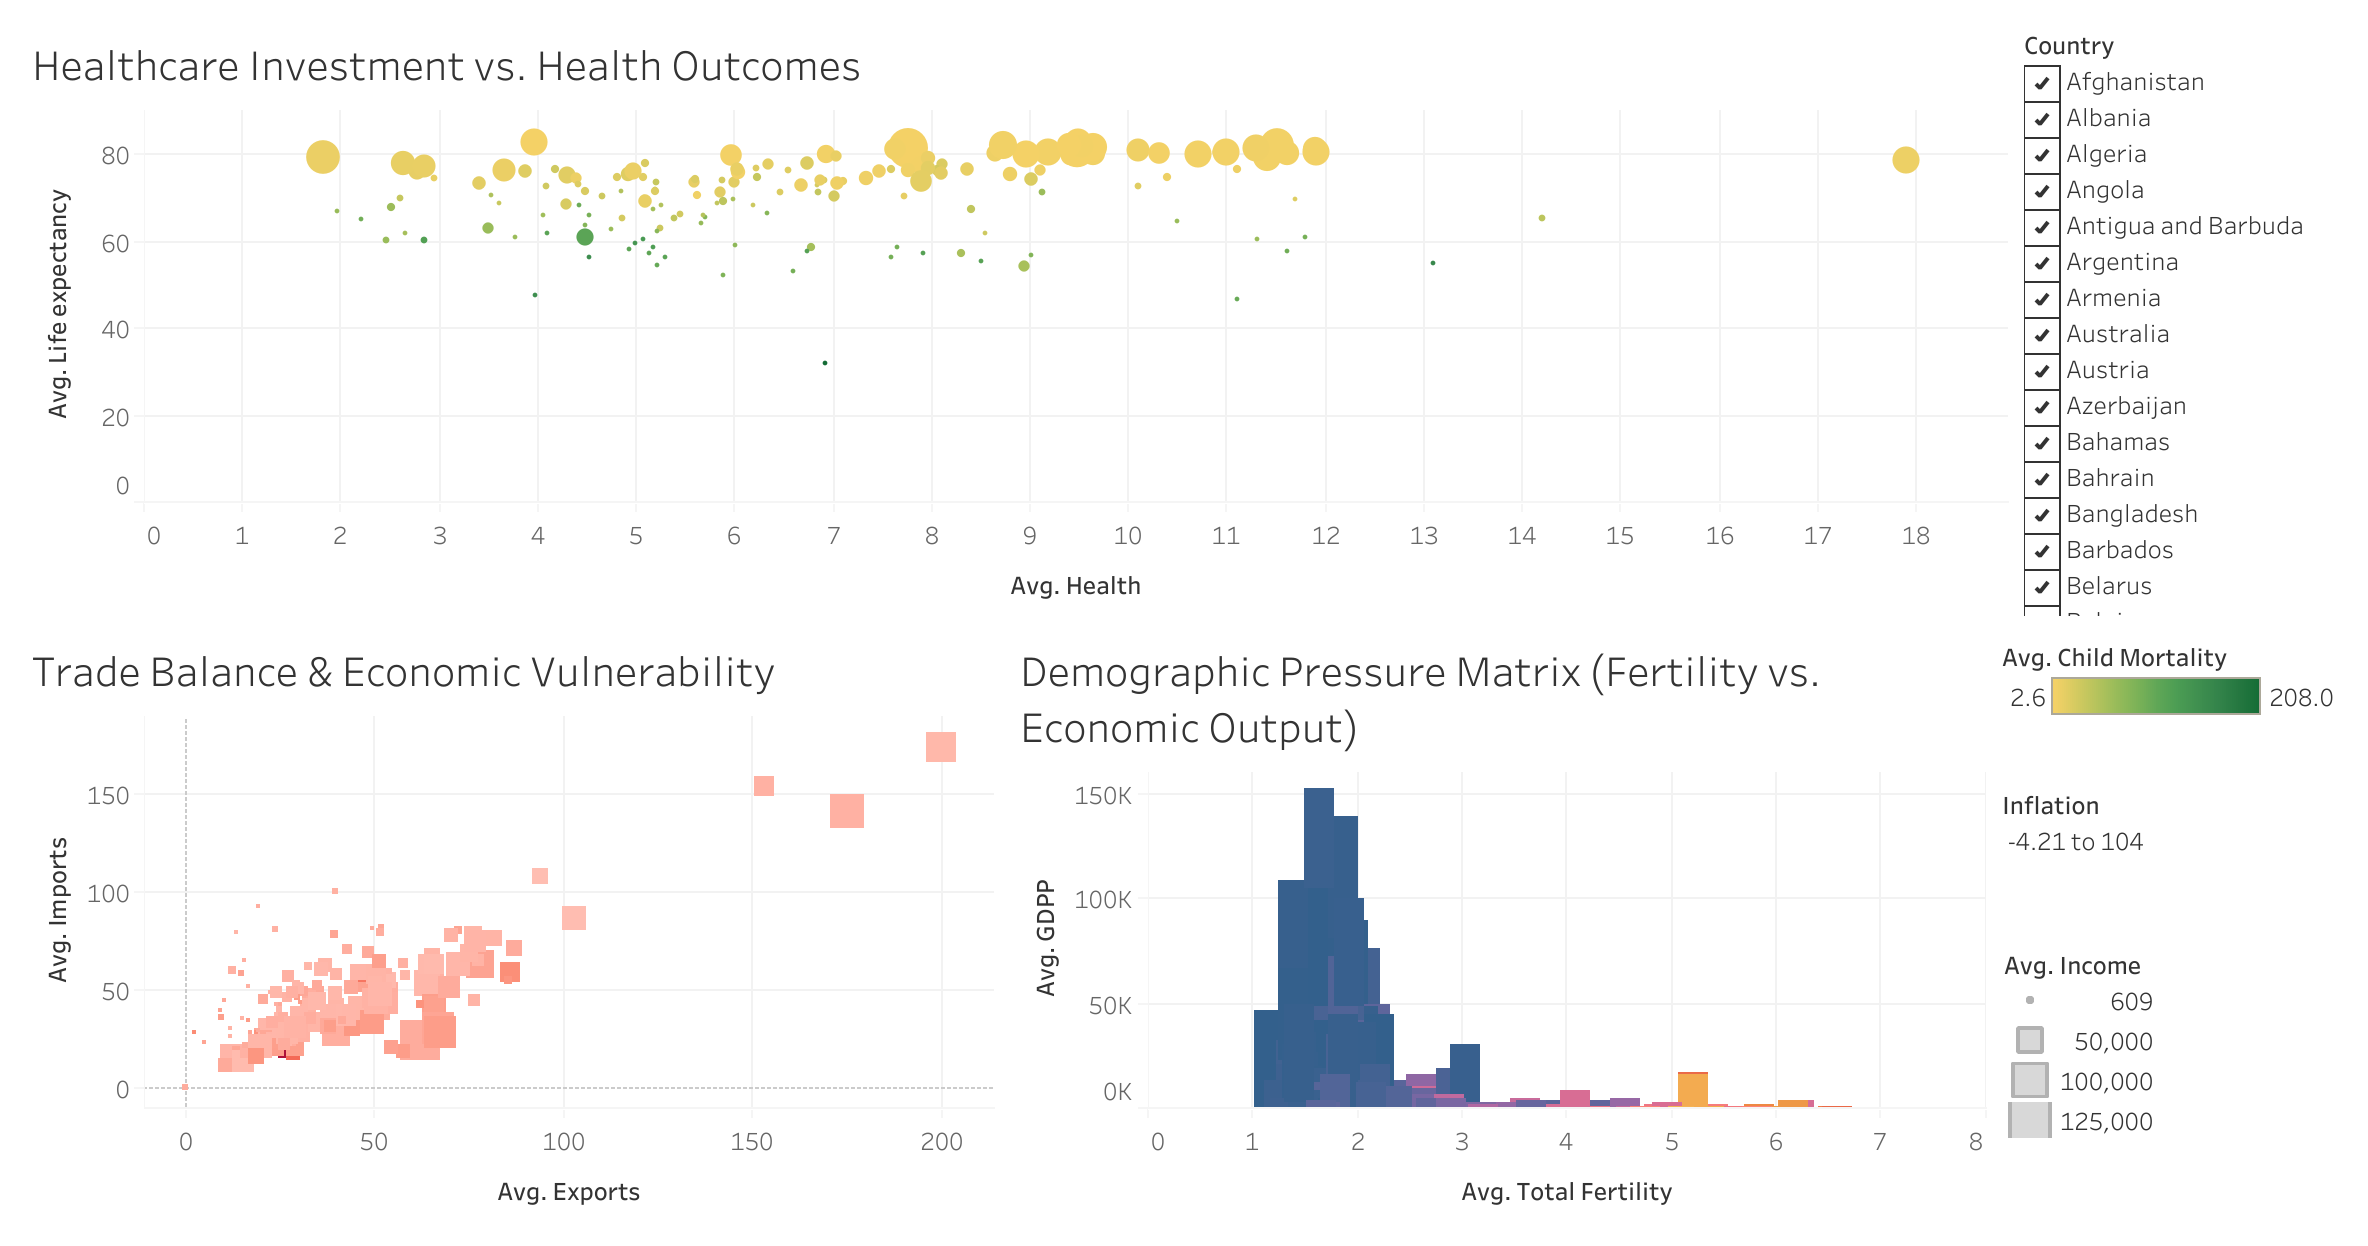

Layout of this report page (visuals, bound fields, positions):
{"tool":"tableau","page":{"name":"Dashboard 2:Structural Drivers & Trade Profiles","canvas":[1000,1000],"units":"permille","ordinal":1},"visuals":[{"type":"worksheet","title":"Healthcare Investment vs. Health Outcomes","mark":"Circle","rows":["F8"],"cols":["F4"],"box":[6.8,12.8,844.6,487.2]},{"type":"filter","title":"Healthcare Investment vs. Health Outcomes","param":"[federated.08tkc1t1d7iy211azh43v0snrct7].[none:F1:nk]","box":[851.3,12.8,141.9,487.2]},{"type":"worksheet","title":"Trade Balance & Economic Vulnerability","mark":"Square","rows":["F5"],"cols":["F3"],"box":[6.8,500,417.5,487.2]},{"type":"worksheet","title":"Demographic Pressure Matrix (Fertility vs. Economic Output)","mark":"Bar","rows":["F10"],"cols":["F9"],"box":[424.3,500,417.5,487.2]},{"type":"legend","title":"Healthcare Investment vs. Health Outcomes","param":"[federated.08tkc1t1d7iy211azh43v0snrct7].[avg:F2:qk]","box":[841.8,500,151.5,122.8]},{"type":"filter","title":"Trade Balance & Economic Vulnerability","param":"[federated.08tkc1t1d7iy211azh43v0snrct7].[none:F7:qk]","box":[841.8,622.8,151.5,126.8]},{"type":"legend","title":"Trade Balance & Economic Vulnerability","param":"[federated.08tkc1t1d7iy211azh43v0snrct7].[avg:F6:qk]","box":[841.8,749.6,151.5,237.6]}]}

Visuals, with their boxes on the dashboard's canvas, which has no fixed pixel size, in thousandths of its width and height (x1, y1, x2, y2). These are canvas units, not pixel positions in the 2368x1246 screenshot, which may show the page scaled, cropped or inside an application window:
"Healthcare Investment vs. Health Outcomes" worksheet (Circle marks): 7 13 851 500
"Healthcare Investment vs. Health Outcomes" filter: 851 13 993 500
"Trade Balance & Economic Vulnerability" worksheet (Square marks): 7 500 424 987
"Demographic Pressure Matrix (Fertility vs. Economic Output)" worksheet (Bar marks): 424 500 842 987
"Healthcare Investment vs. Health Outcomes" legend: 842 500 993 623
"Trade Balance & Economic Vulnerability" filter: 842 623 993 750
"Trade Balance & Economic Vulnerability" legend: 842 750 993 987
